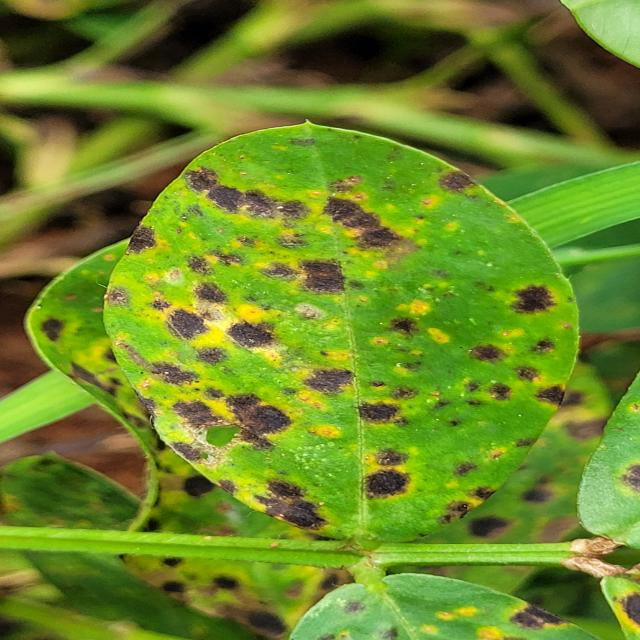Ground nut_tikka leaf spot: (105, 121, 585, 549)
